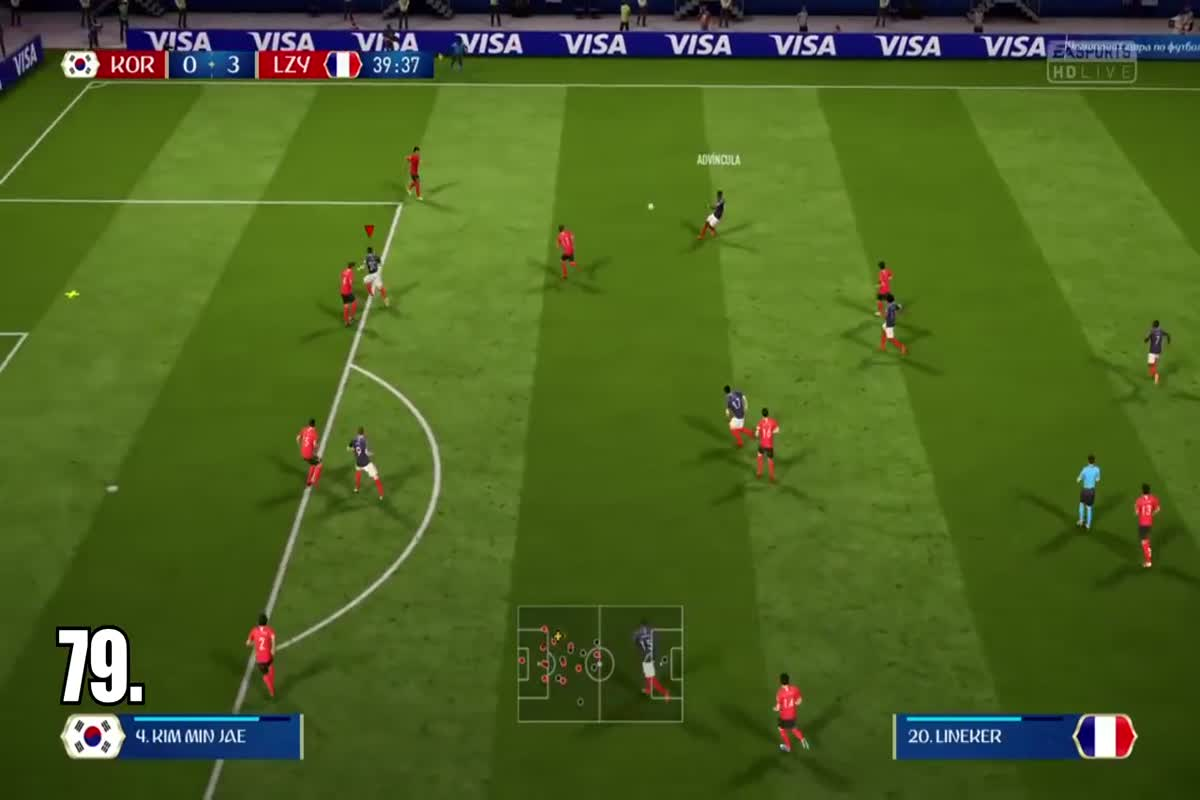ball: (640, 196, 668, 220)
